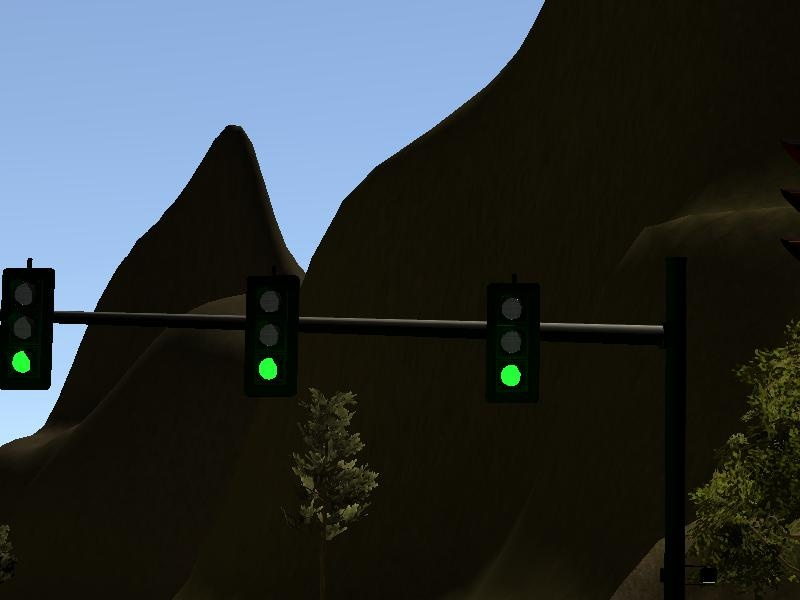GREEN: (485, 284, 540, 403), (245, 275, 300, 394), (1, 269, 54, 388)
